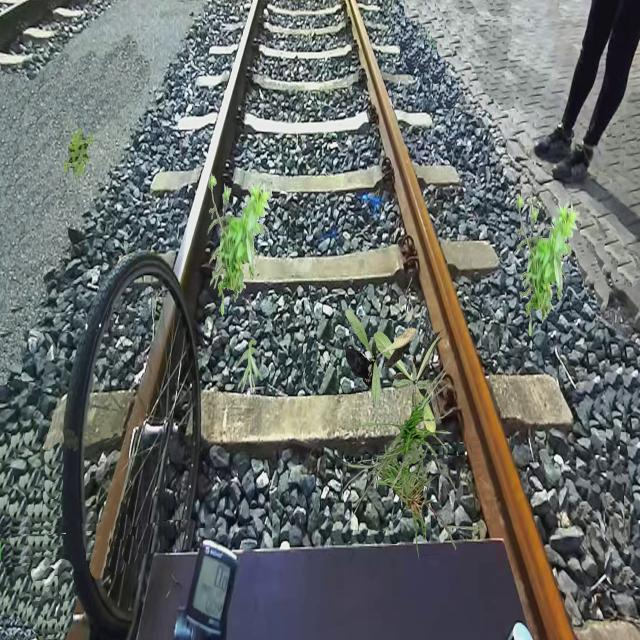Plant: (341, 360, 459, 524), (337, 442, 480, 562), (515, 193, 580, 336), (208, 172, 272, 316), (373, 330, 444, 438), (345, 309, 417, 408), (236, 339, 262, 396), (208, 235, 234, 292), (71, 128, 95, 169), (63, 138, 87, 179)
